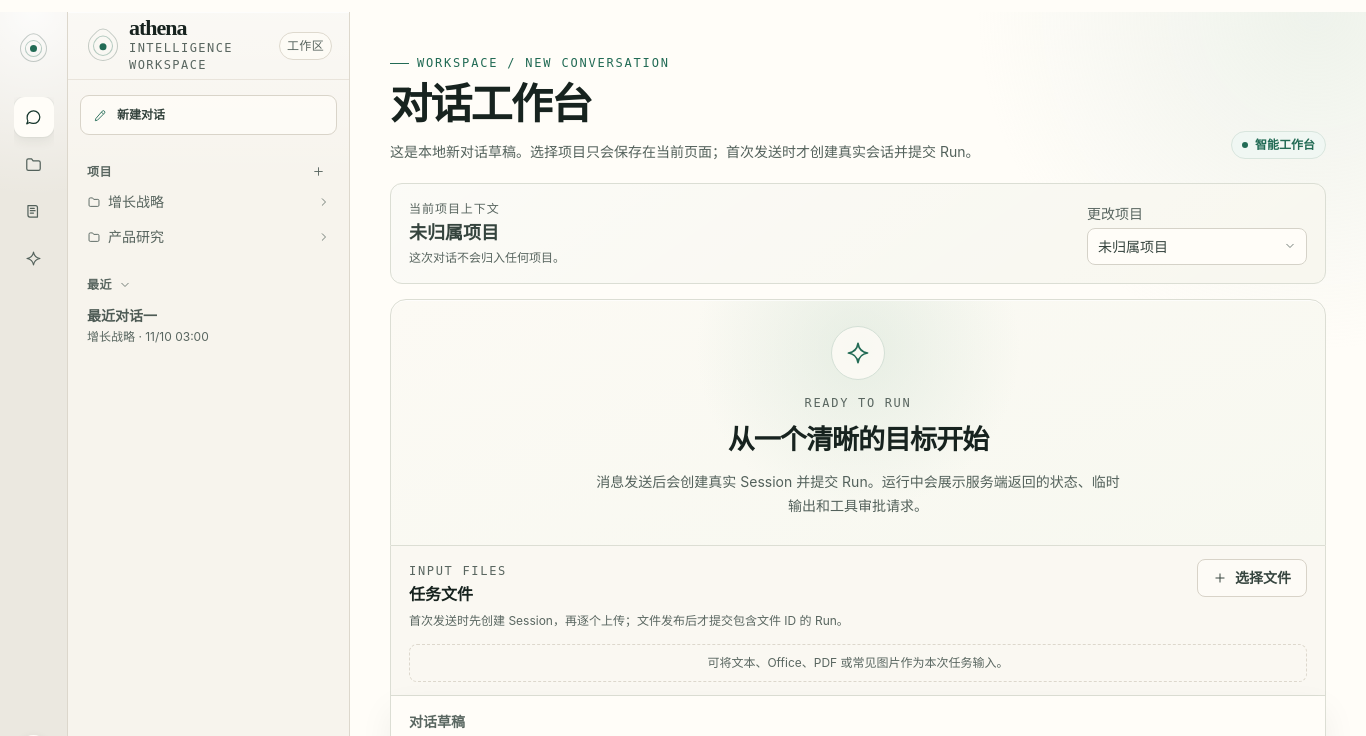
对话侧栏项目树 › 本地存储读取或写入失败时仍可正常展开收起
Step 1. Click the button "最近" → (109, 284), box x1=87 y1=271 x2=131 y2=298
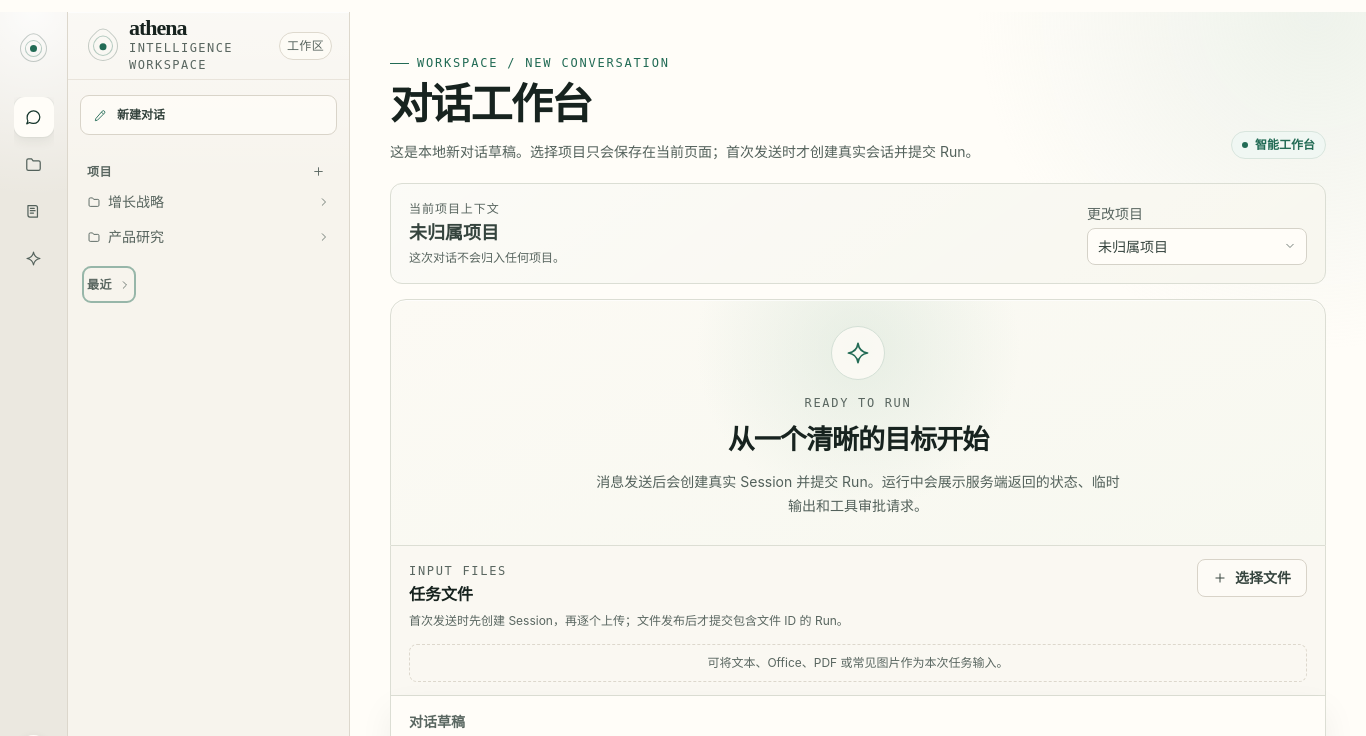
Expected: the element with id "recent-sessions-content" is gone
